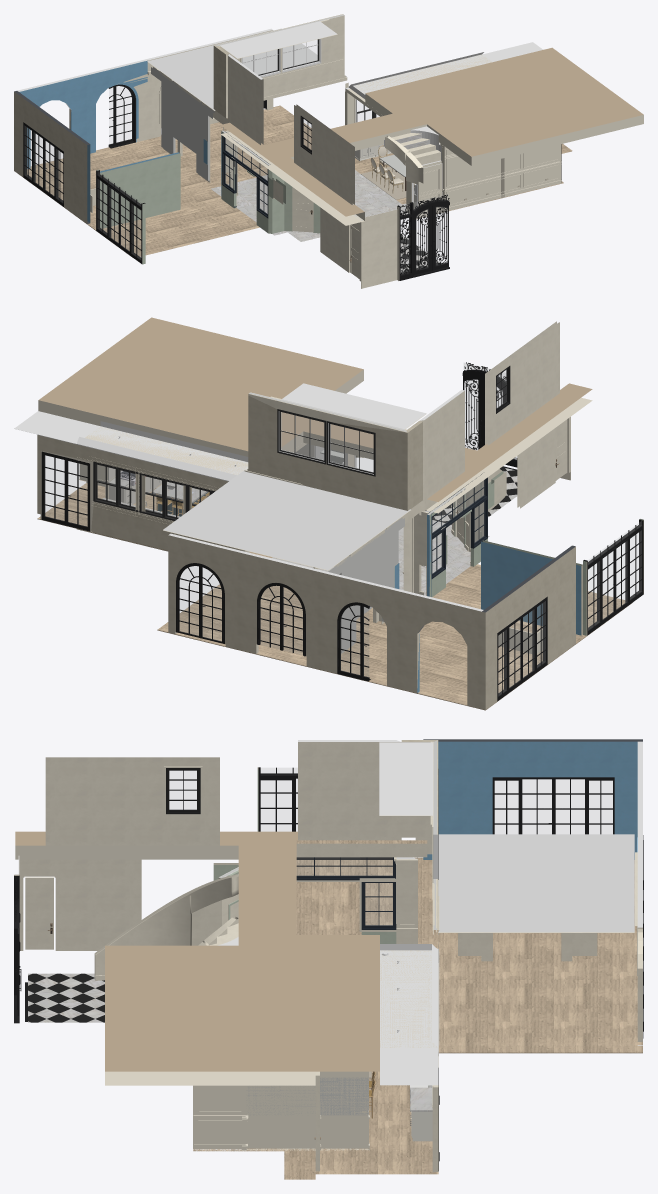
The model's file is kitchen-dce672784ad7.glb.
3 views of the same model, one above another, from view 1: azimuth 30°, elevation 25°; view 2: azimuth 150°, elevation 25°; view 3: azimuth 270°, elevation 25° (orthographic). The views are drawn at different scales.
Parts seen in each view (by area): view 1: kitchen-look-2575515a05775d9e, kitchen-look-3b0077416469e01b, kitchen-look-969b861f9850351e, kitchen-19647d6da46c2b80, kitchen-look-b19b106fc304963c, kitchen-look-039192b0560cfac3, kitchen-look-4a969f5cc1ae3dfe, kitchen-look-746250f96522f643, kitchen-look-55ff1dfd7b659ec1, kitchen-look-245f595ae2832e16, kitchen-look-d5a4a1b5d3594c04, kitchen-look-7f59123d155b94ce (+37 smaller); view 2: kitchen-look-2575515a05775d9e, kitchen-look-969b861f9850351e, kitchen-look-3b0077416469e01b, kitchen-look-4a969f5cc1ae3dfe, kitchen-look-245f595ae2832e16, kitchen-look-039192b0560cfac3, kitchen-look-746250f96522f643, kitchen-bfb9fa537cd11d1d, kitchen-49bdd6945a2d0056, kitchen-look-7f59123d155b94ce, kitchen-look-b19b106fc304963c, kitchen-look-55ff1dfd7b659ec1 (+40 smaller); view 3: kitchen-look-2575515a05775d9e, kitchen-look-3b0077416469e01b, kitchen-look-4a969f5cc1ae3dfe, kitchen-look-746250f96522f643, kitchen-look-039192b0560cfac3, kitchen-look-7f59123d155b94ce, kitchen-look-85f0fd939e0fcc78, kitchen-9a0e9ee9b2a451d7, kitchen-5b6bbac285e58726, kitchen-look-9d91b47435c6fb33, kitchen-look-c4ac463b6a960119, kitchen-49bdd6945a2d0056 (+29 smaller).
Part boxes in pixels (<box>): kitchen-look-2575515a05775d9e: <box>221,47,643,225</box>; kitchen-look-3b0077416469e01b: <box>14,105,572,257</box>; kitchen-look-969b861f9850351e: <box>17,28,273,168</box>; kitchen-19647d6da46c2b80: <box>444,144,560,207</box>; kitchen-look-b19b106fc304963c: <box>100,152,180,228</box>; kitchen-look-039192b0560cfac3: <box>14,91,90,223</box>; kitchen-look-4a969f5cc1ae3dfe: <box>147,28,346,110</box>; kitchen-look-746250f96522f643: <box>294,104,354,205</box>; kitchen-look-55ff1dfd7b659ec1: <box>151,67,214,180</box>; kitchen-look-245f595ae2832e16: <box>213,14,344,108</box>; kitchen-look-d5a4a1b5d3594c04: <box>361,209,397,288</box>; kitchen-look-7f59123d155b94ce: <box>228,54,263,144</box>; kitchen-look-2575515a05775d9e: <box>38,317,592,513</box>; kitchen-look-969b861f9850351e: <box>168,533,483,708</box>; kitchen-look-3b0077416469e01b: <box>37,479,632,710</box>; kitchen-look-4a969f5cc1ae3dfe: <box>163,471,410,570</box>; kitchen-look-245f595ae2832e16: <box>248,392,407,510</box>; kitchen-look-039192b0560cfac3: <box>481,545,575,709</box>; kitchen-look-746250f96522f643: <box>485,321,559,445</box>; kitchen-bfb9fa537cd11d1d: <box>76,444,247,551</box>; kitchen-49bdd6945a2d0056: <box>76,421,248,480</box>; kitchen-look-7f59123d155b94ce: <box>419,390,464,511</box>; kitchen-look-b19b106fc304963c: <box>481,540,582,635</box>; kitchen-look-55ff1dfd7b659ec1: <box>328,517,404,653</box>; kitchen-look-2575515a05775d9e: <box>15,831,379,1085</box>; kitchen-look-3b0077416469e01b: <box>284,857,642,1179</box>; kitchen-look-4a969f5cc1ae3dfe: <box>438,834,634,932</box>; kitchen-look-746250f96522f643: <box>45,757,219,845</box>; kitchen-look-039192b0560cfac3: <box>423,739,642,859</box>; kitchen-look-7f59123d155b94ce: <box>298,740,401,840</box>; kitchen-look-85f0fd939e0fcc78: <box>19,859,141,950</box>; kitchen-9a0e9ee9b2a451d7: <box>380,950,438,1047</box>; kitchen-5b6bbac285e58726: <box>247,1085,315,1150</box>; kitchen-look-9d91b47435c6fb33: <box>379,742,432,815</box>; kitchen-look-c4ac463b6a960119: <box>28,973,104,1022</box>; kitchen-49bdd6945a2d0056: <box>380,944,438,1047</box>.
Size of the model in its own units: 20.84 by 6.36 by 16.8.
Materials: 71 (14 with a texture image).
